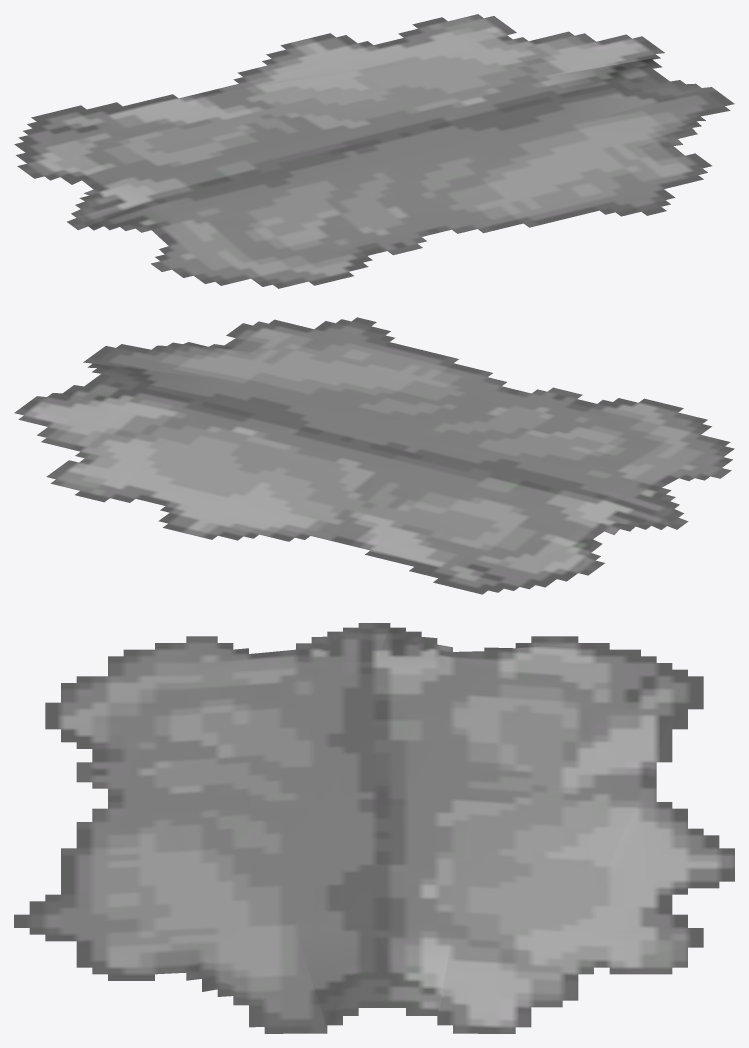
File: ObjMD_Bear_A.FBX
3 views of the same model, one above another, from view 1: azimuth 30°, elevation 25°; view 2: azimuth 150°, elevation 25°; view 3: azimuth 270°, elevation 25° (orthographic). The views are drawn at different scales.
Parts seen in each view (by area): view 1: ObjMD_Bear_A; view 2: ObjMD_Bear_A; view 3: ObjMD_Bear_A.
Part boxes in pixels (bbox=[...]): ObjMD_Bear_A: bbox=[14, 14, 734, 288]; ObjMD_Bear_A: bbox=[14, 317, 734, 594]; ObjMD_Bear_A: bbox=[14, 623, 734, 1033].
Size of the model in its own units: 388 by 4.74 by 288.
